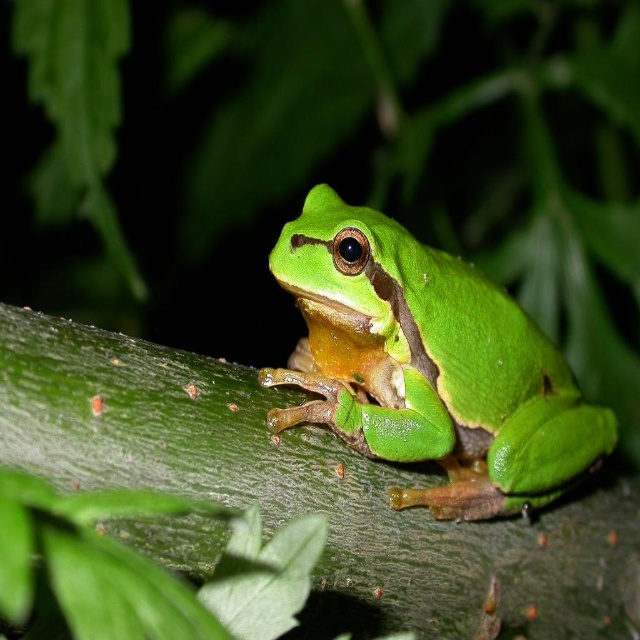Frog: (268, 183, 618, 524)
